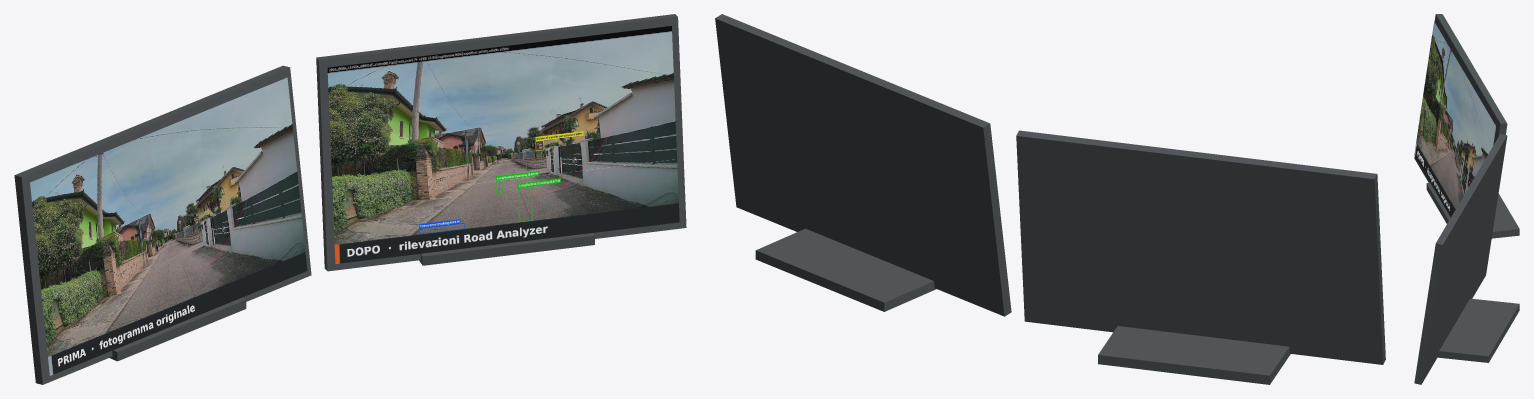
The model's file is prima_dopo_residenziale.glb.
3 renders of one model, left to right at view 1: azimuth 30°, elevation 25°; view 2: azimuth 150°, elevation 25°; view 3: azimuth 270°, elevation 25°, orthographic. The views are drawn at different scales.
Parts seen in each view (by area): view 1: geometry_3, geometry_0, geometry_4, geometry_1, geometry_5, geometry_2; view 2: geometry_1, geometry_4, geometry_2, geometry_5; view 3: geometry_0, geometry_4, geometry_5, geometry_1, geometry_2.
Boxes of the visible parts, x1=… form: geometry_3: x1=327, y1=26, x2=679, y2=263; geometry_0: x1=30, y1=77, x2=307, y2=375; geometry_4: x1=316, y1=14, x2=686, y2=271; geometry_1: x1=14, y1=65, x2=311, y2=384; geometry_5: x1=419, y1=233, x2=594, y2=265; geometry_2: x1=109, y1=298, x2=246, y2=361; geometry_1: x1=1016, y1=130, x2=1385, y2=364; geometry_4: x1=715, y1=14, x2=1011, y2=316; geometry_2: x1=1098, y1=326, x2=1290, y2=384; geometry_5: x1=755, y1=228, x2=936, y2=311; geometry_0: x1=1414, y1=21, x2=1495, y2=217; geometry_4: x1=1414, y1=133, x2=1507, y2=384; geometry_5: x1=1437, y1=298, x2=1519, y2=362; geometry_1: x1=1414, y1=14, x2=1507, y2=182; geometry_2: x1=1426, y1=182, x2=1519, y2=238.
Bounding box in the file's own units: 0.5965 × 0.1739 × 0.1153.
2 materials, 2 textured.
